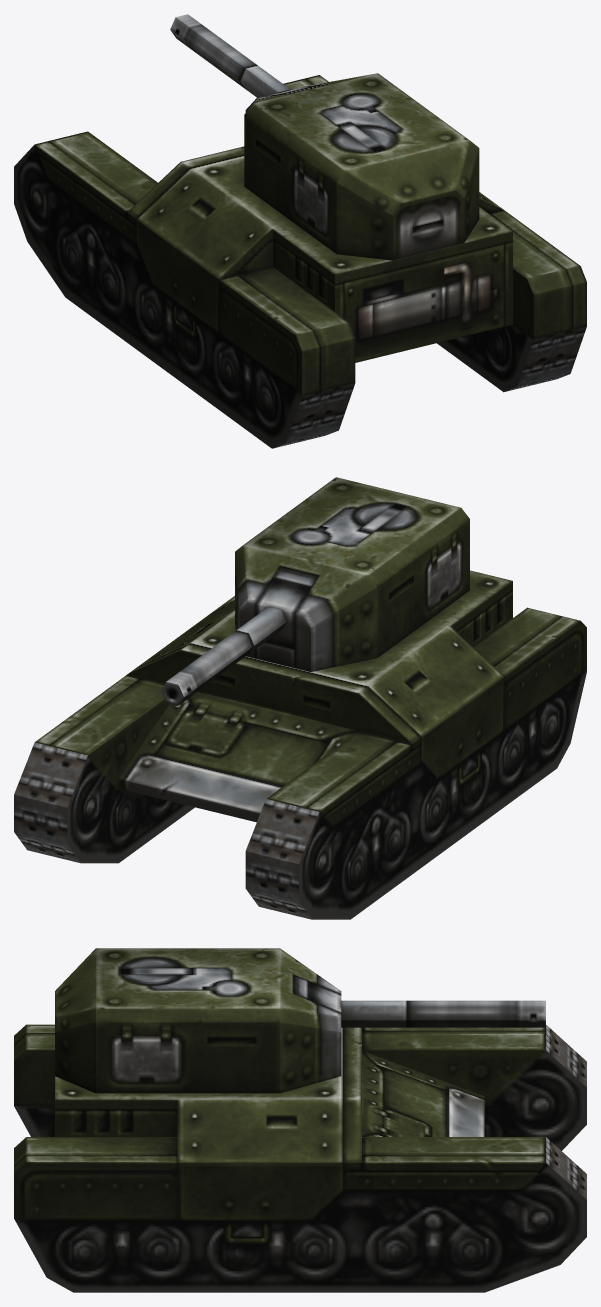
Rendered from LC_SmokyWasp.glb.
3 renders of one model, top to bottom at view 1: azimuth 30°, elevation 25°; view 2: azimuth 150°, elevation 25°; view 3: azimuth 270°, elevation 25°, orthographic.
Visible parts, largest first — view 1: hull, turret; view 2: hull, turret; view 3: hull, turret.
Part boxes in pixels (bbox=[...]): hull: bbox=[14, 75, 586, 448]; turret: bbox=[170, 14, 479, 260]; hull: bbox=[14, 570, 586, 919]; turret: bbox=[161, 477, 469, 705]; hull: bbox=[14, 1024, 586, 1292]; turret: bbox=[55, 948, 545, 1093].
Size of the model in its own units: 264 by 220 by 462.
2 materials, 2 textured.
